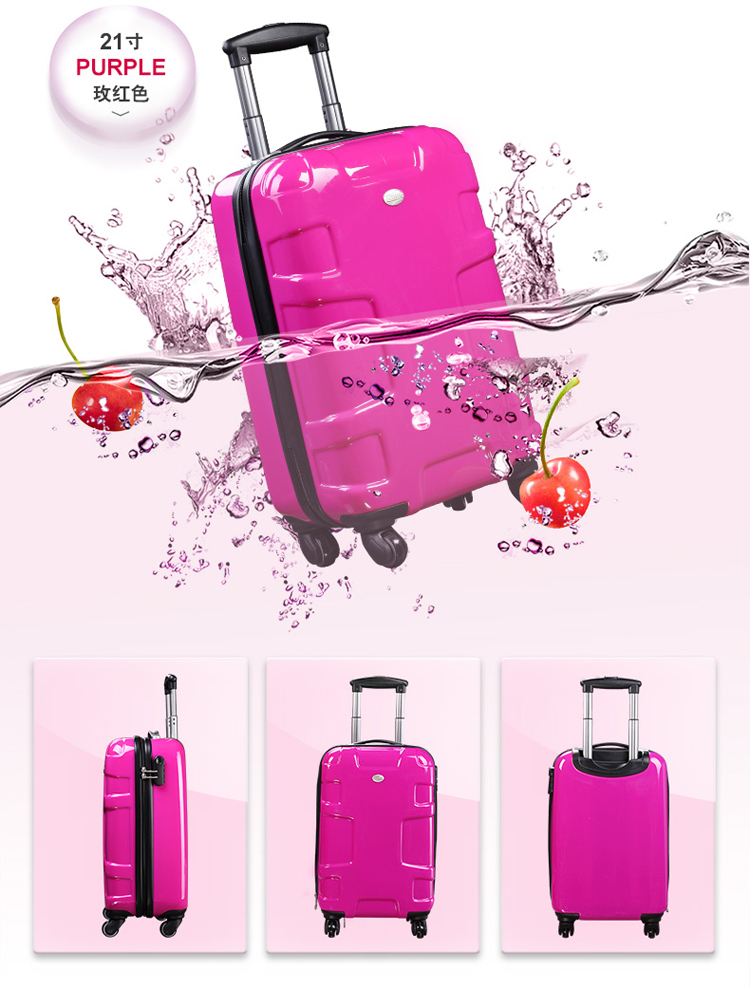luggage: (312, 674, 440, 940), (544, 675, 672, 941), (101, 670, 190, 940)
